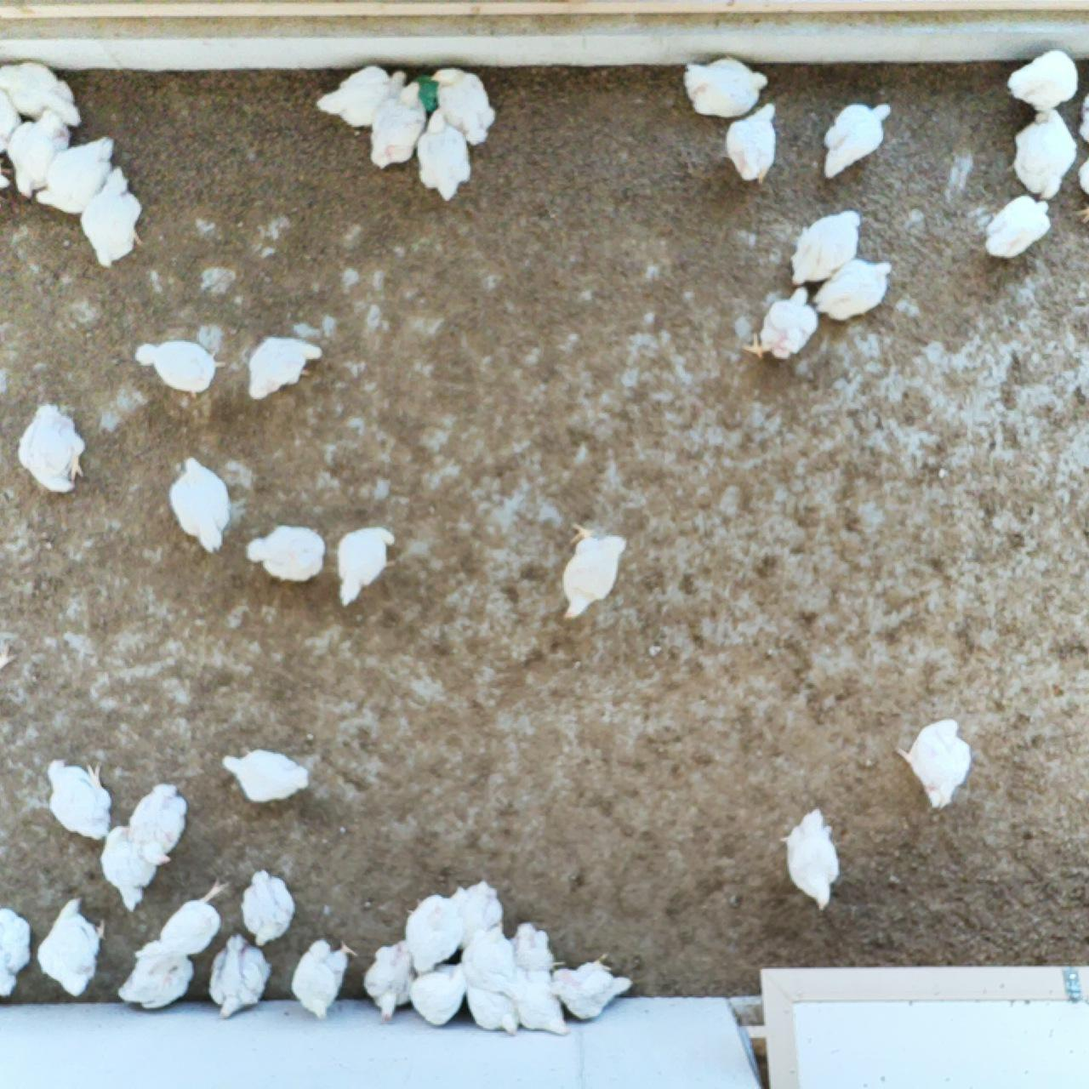chicken: (891, 714, 975, 812), (14, 399, 89, 502), (166, 451, 234, 564), (559, 519, 633, 621), (36, 894, 108, 998), (75, 164, 144, 270), (32, 133, 119, 216), (1007, 104, 1082, 200), (776, 807, 841, 913), (152, 874, 236, 956), (543, 949, 635, 1023), (5, 106, 74, 203), (785, 204, 864, 288), (817, 99, 895, 184), (330, 522, 403, 611), (287, 935, 359, 1024), (315, 64, 409, 132), (427, 62, 498, 152), (134, 334, 232, 398), (43, 755, 115, 842), (238, 520, 328, 589), (206, 931, 274, 1021), (241, 334, 326, 406), (680, 52, 774, 117), (126, 780, 193, 870), (114, 939, 196, 1012), (368, 80, 431, 173), (744, 283, 819, 361), (811, 253, 893, 324), (98, 822, 160, 915), (413, 109, 475, 201), (0, 61, 84, 128), (982, 189, 1058, 260), (219, 746, 311, 804), (1005, 45, 1083, 111), (238, 863, 298, 947), (402, 890, 462, 974), (460, 922, 523, 1000), (722, 100, 779, 186), (362, 939, 419, 1024), (511, 966, 574, 1040), (408, 958, 468, 1028), (449, 879, 506, 951), (465, 979, 523, 1039), (0, 905, 35, 1001), (509, 921, 567, 973), (0, 84, 26, 154), (1073, 152, 1089, 225), (1075, 92, 1089, 145)
